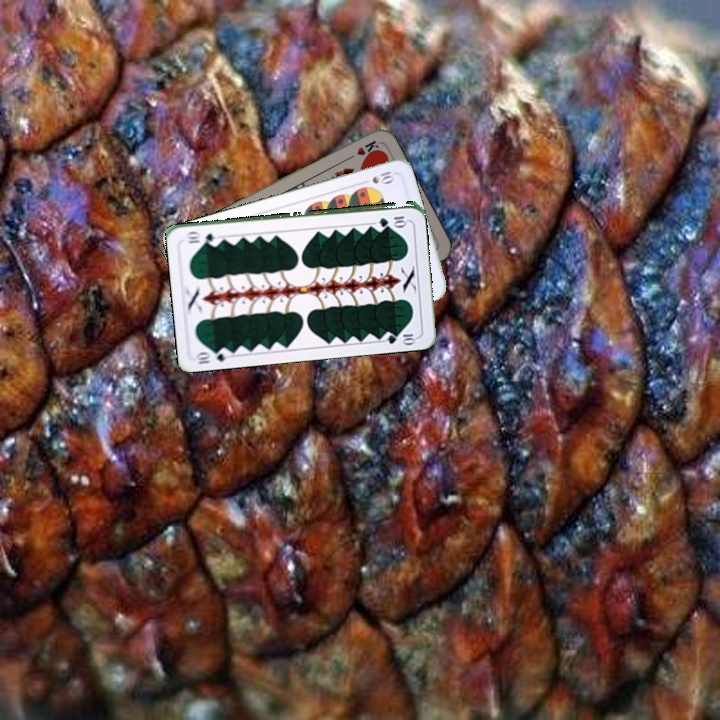G10: (193, 344, 233, 367), (374, 212, 409, 227)
HK: (343, 136, 381, 163)
S10: (357, 167, 397, 187)
